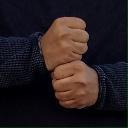hand: (37, 16, 90, 70), (53, 60, 100, 110)
